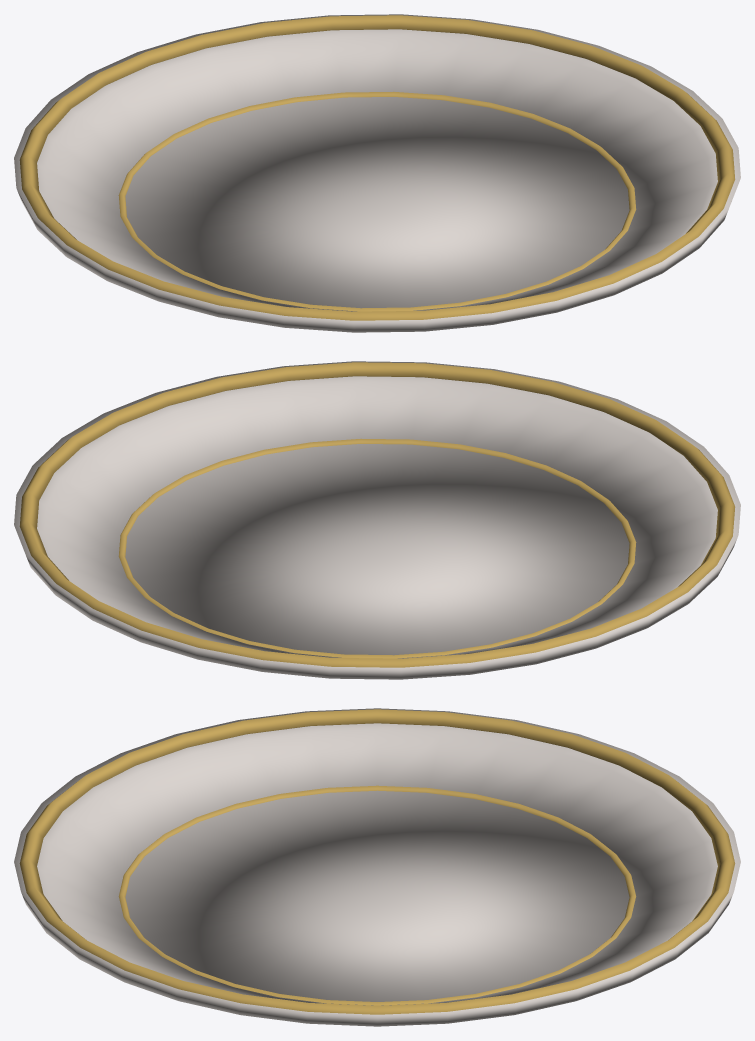
File: dinner_plate.glb
3 views of the same model, one above another, from view 1: azimuth 30°, elevation 25°; view 2: azimuth 150°, elevation 25°; view 3: azimuth 270°, elevation 25° (orthographic).
Visible parts, largest first — view 1: dinner_plate; view 2: dinner_plate; view 3: dinner_plate.
Part boxes in pixels (bbox=[...]): dinner_plate: bbox=[14, 14, 740, 332]; dinner_plate: bbox=[14, 361, 740, 679]; dinner_plate: bbox=[14, 708, 740, 1026].
Size of what is drawn, in the model's own units: 0.28 by 0.03 by 0.28.
